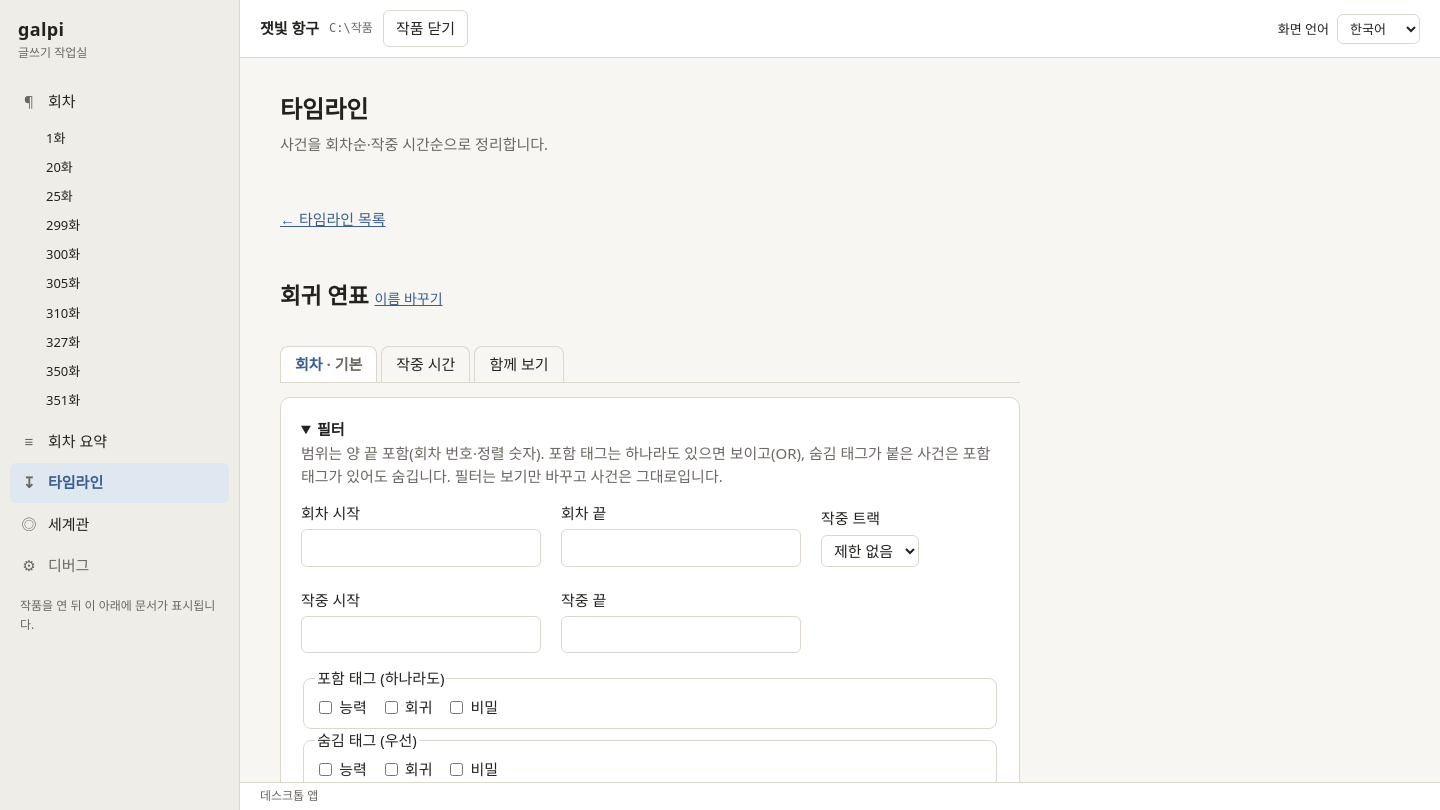
Scenario: 10 filters and links › S10.B episode range 300~350 → link; a later 327 event shows on re-query; back restores the filter; hide/unhide restores count
This screenshot has width=1440, height=810.
Earlier steps of the test are not shown.
Later steps or results of the test are not shown.
In the number field labelled "회차 시작": {"x": 421, "y": 548} [301, 529, 541, 567], type "300"
In the number field labelled "회차 끝": {"x": 681, "y": 548} [561, 529, 801, 567], type "350"
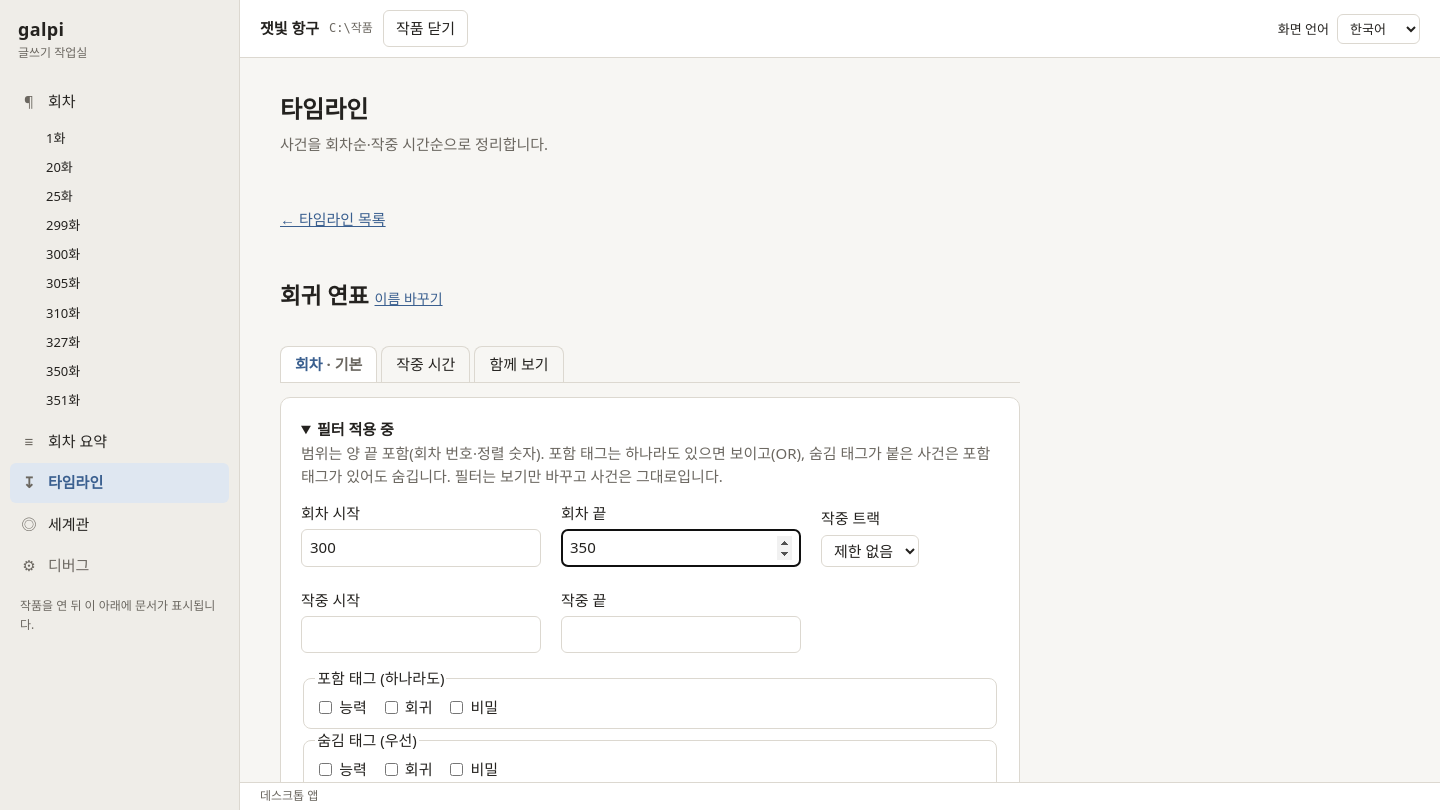
Click the checkbox labelled "비밀" below "숨김 태그 (우선)": {"x": 457, "y": 769} [450, 763, 464, 776]
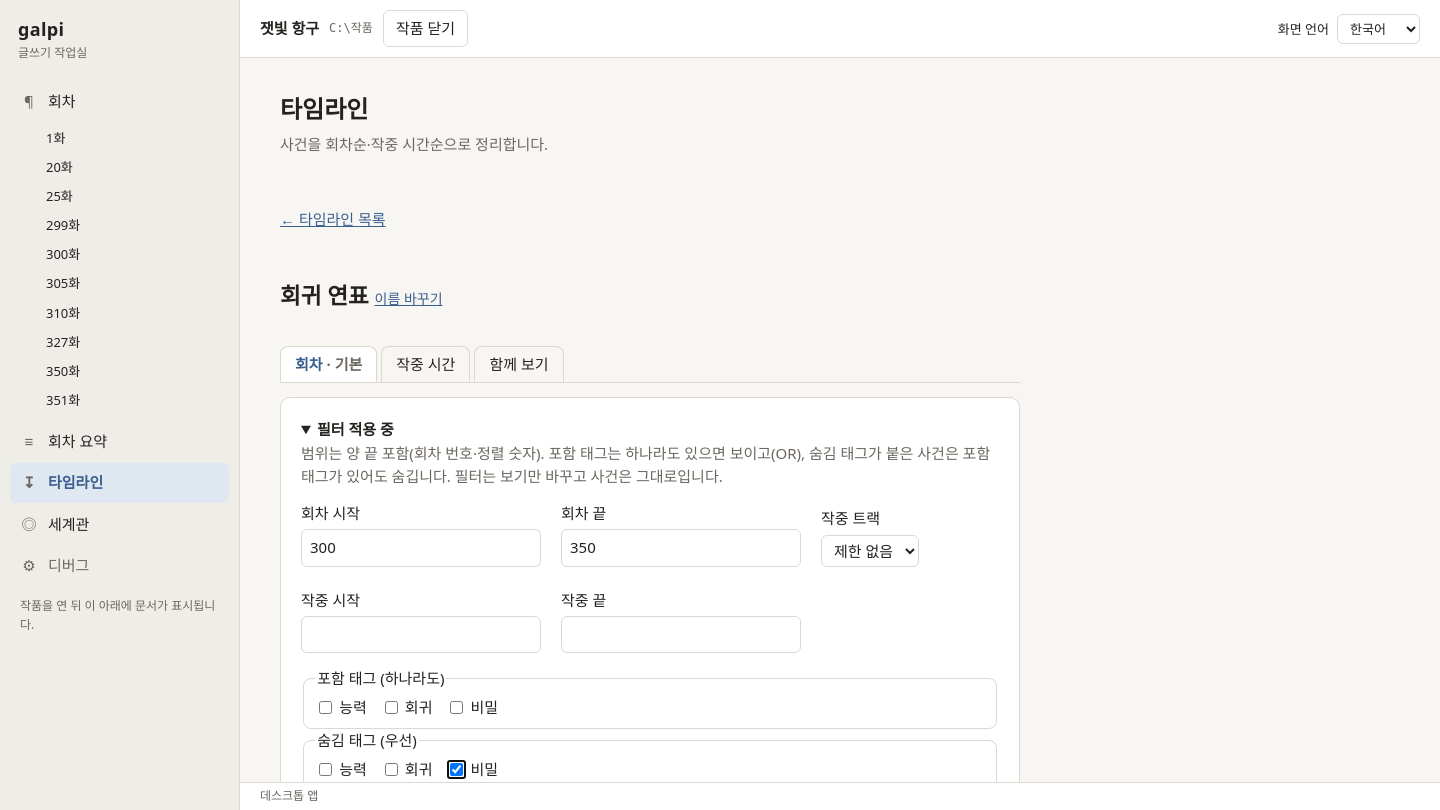
Click the checkbox labelled "비밀" below "숨김 태그 (우선)": {"x": 457, "y": 769} [450, 763, 464, 776]
(page scrolled)
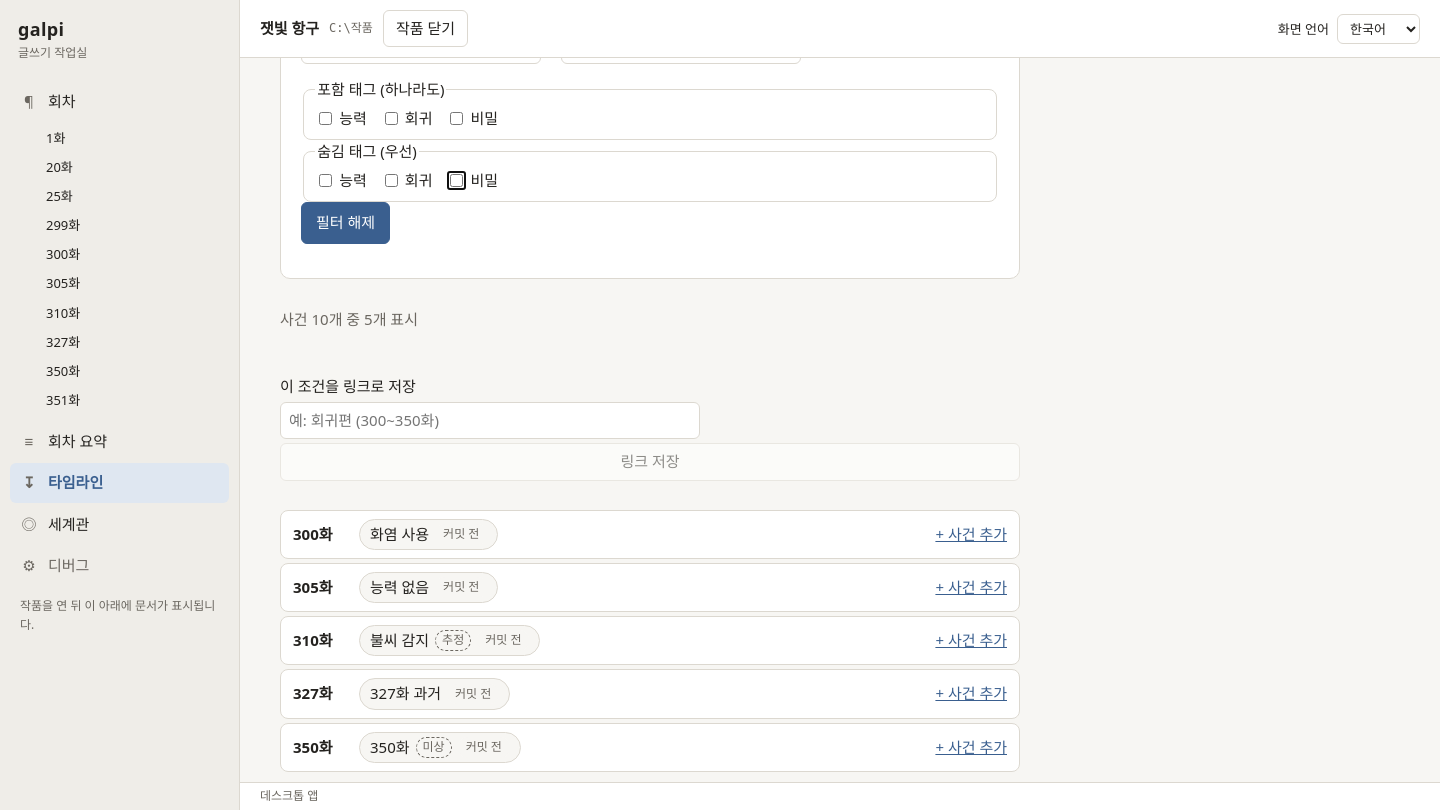
Check: the text with test id "shown-count" reads "사건 10개 중 5개 표시", box [280, 309, 418, 329]
In the field labelled "이 조건을 링크로 저장": {"x": 490, "y": 421} [280, 402, 700, 440], type "회귀편"
Click the button "링크 저장": {"x": 650, "y": 462} [280, 443, 1020, 481]
(page scrolled)
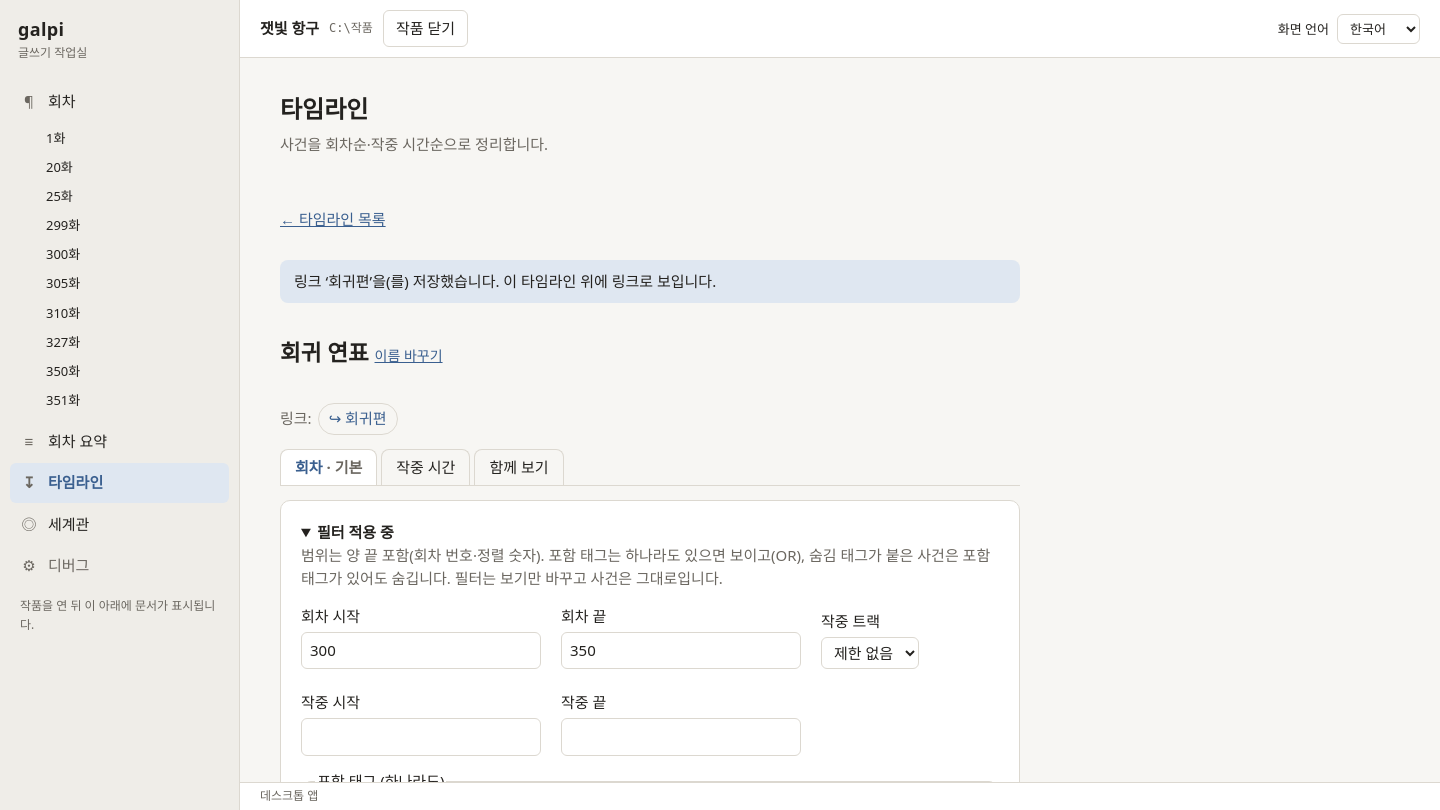
Check: the text "링크 ‘회귀편’을(를) 저장했습니다. 이 타임라인 위에 링크로 보입니다." is shown, box [280, 260, 1020, 303]
Click the button "↪ 회귀편": {"x": 358, "y": 419} [318, 403, 398, 435]
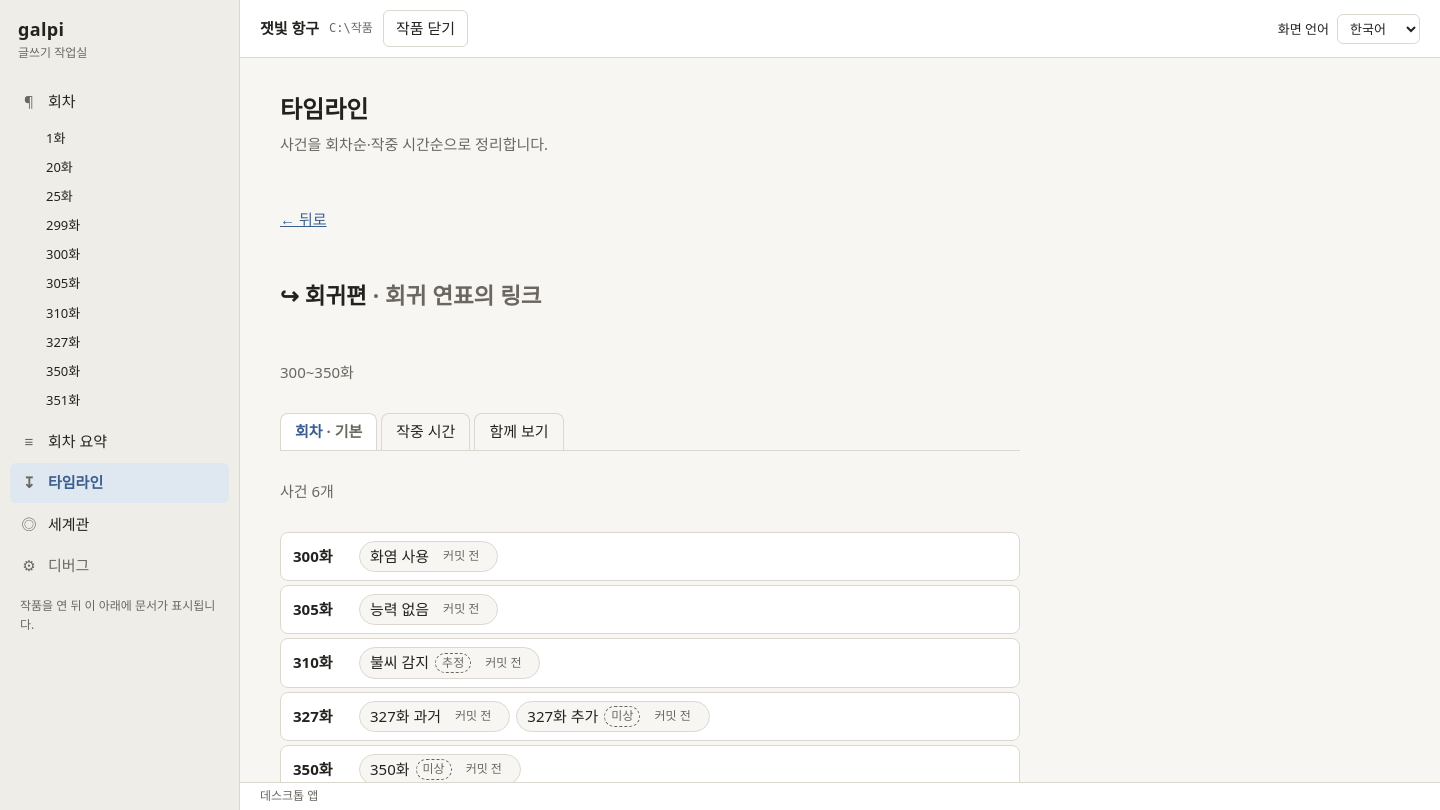
Check: the text with test id "view-conditions" reads "300~350화", box [280, 362, 354, 382]
Check: the text with test id "shown-count" reads "사건 6개", box [280, 481, 334, 501]
Click the button "← 뒤로": {"x": 303, "y": 219} [280, 208, 326, 231]
(page scrolled)
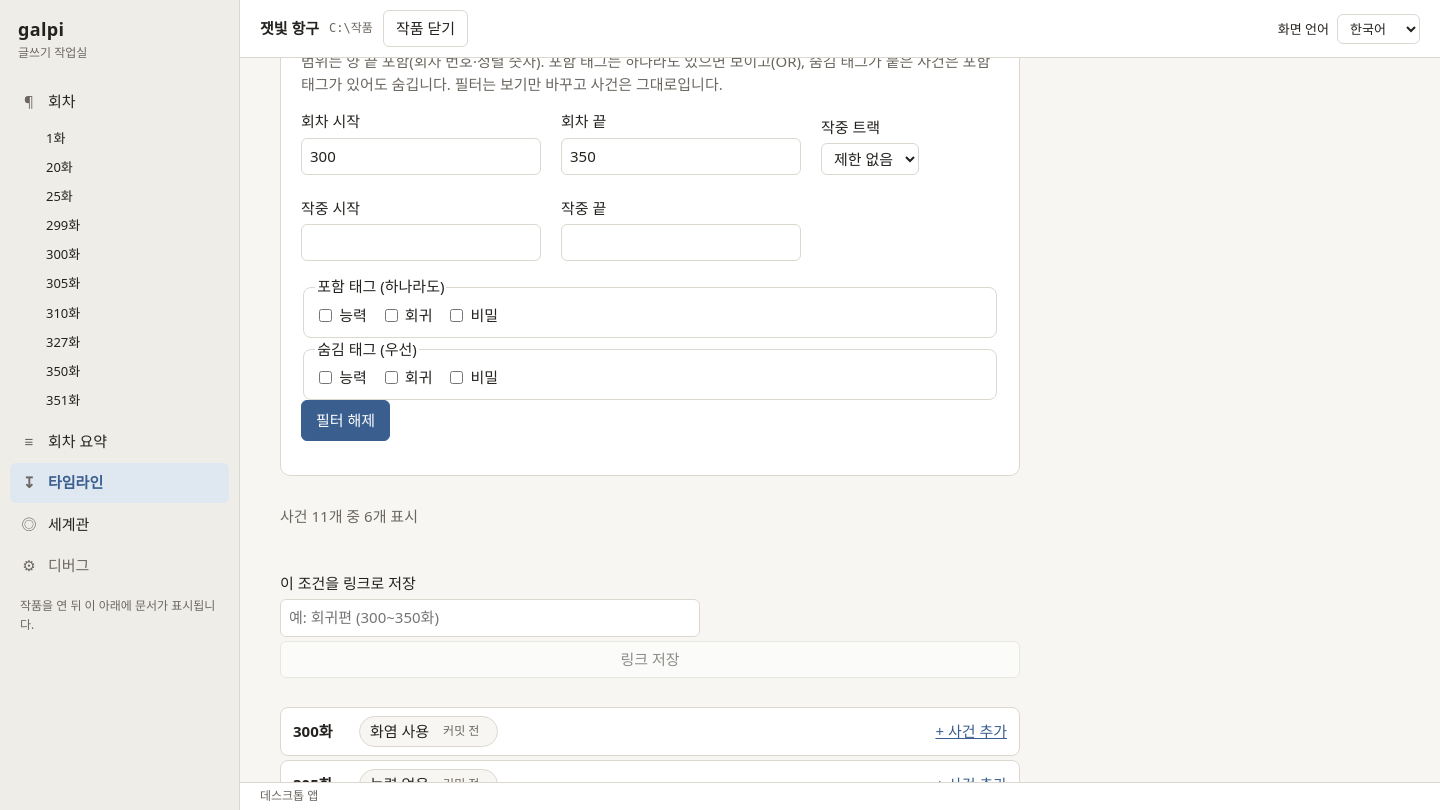
Check: the number field labelled "회차 시작" holds "300", box [301, 138, 541, 175]
Check: the number field labelled "회차 끝" holds "350", box [561, 138, 801, 175]
